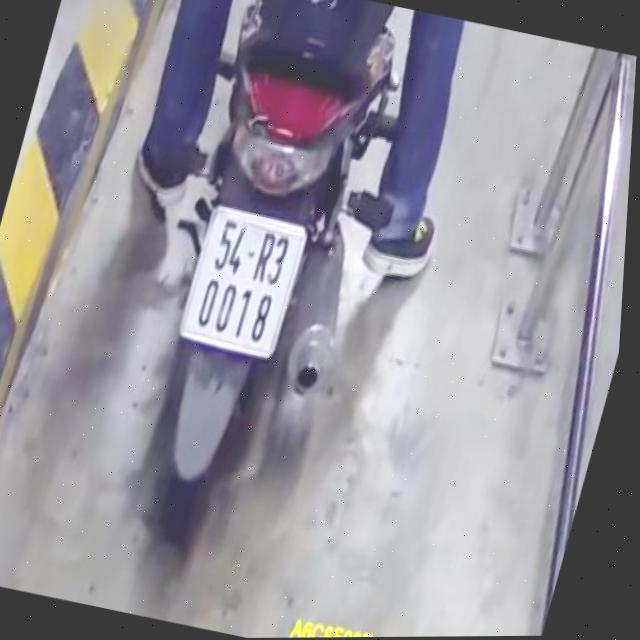motorcycle: (86, 0, 430, 582)
plate: (172, 200, 310, 363)
